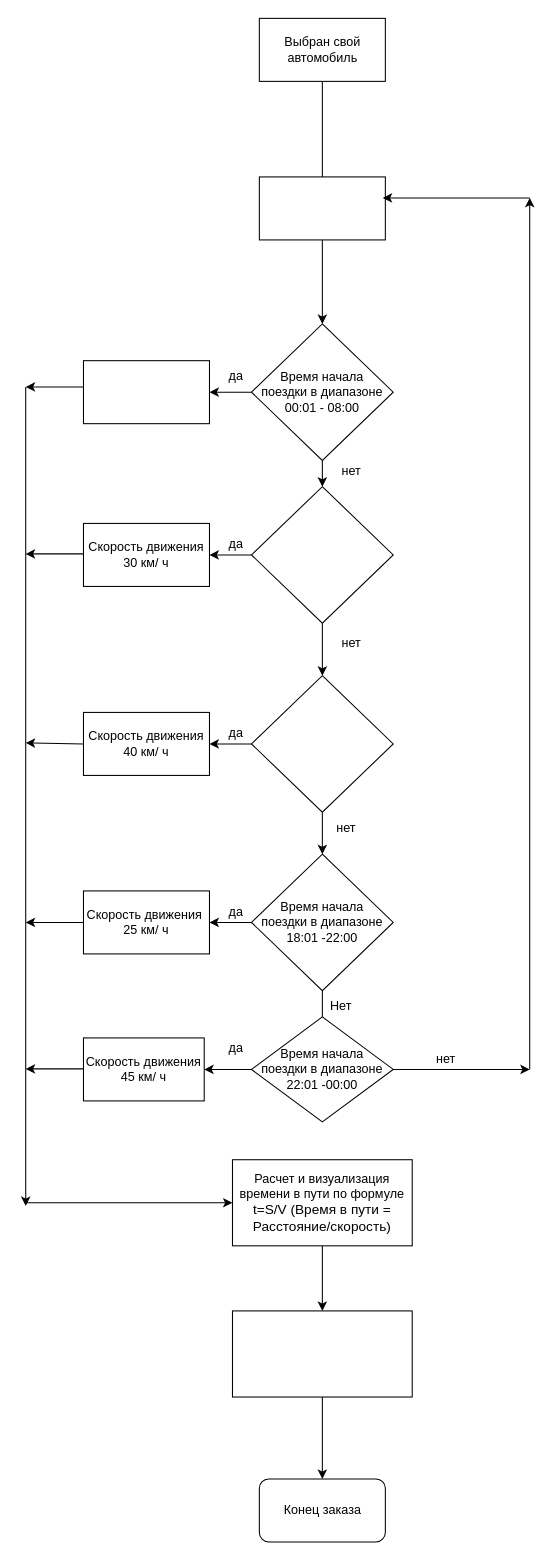
Some shapes in this 557 by 1560 pixel diagram are drawn without their labels. The shapes that lost their labels are listed below. From the top down, each one's centre as x and y in pixels, then its label:
At (x=321, y=208): "Данные о времени начала движения".
At (x=145, y=392): "Скорость 45 км/ ч".
At (x=321, y=554): "Время начала поездки в диапазоне 08:01 - 12:00".
At (x=321, y=743): "Время начала поездки в диапазоне 12:01 -18:00".
At (x=321, y=1353): "Расчет и визуализация стоимости по формуле Стоимость=Цена*время".
